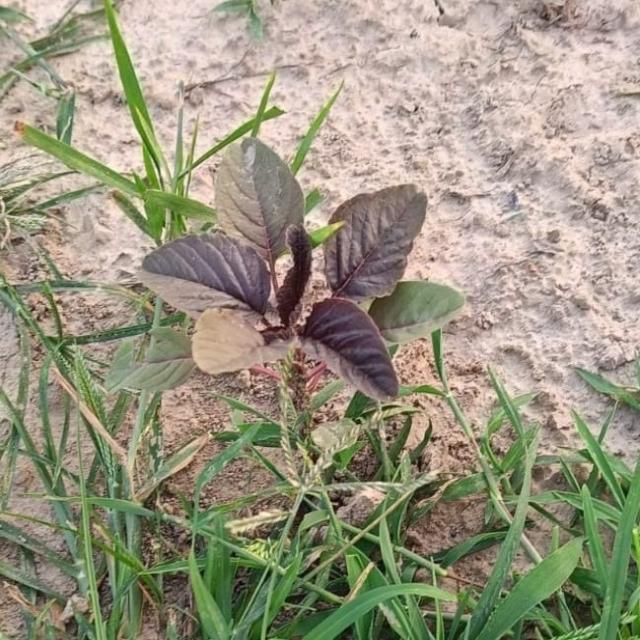plant: (126, 138, 464, 401)
